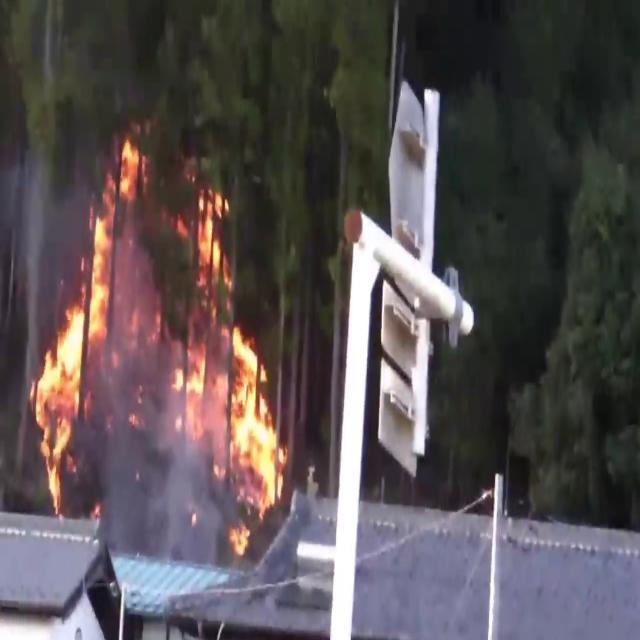Fire: (170, 182, 286, 526), (29, 136, 134, 512)
Smoke: (101, 235, 221, 560)
